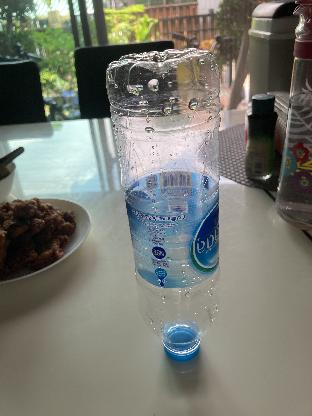Plastic Bottle: (106, 46, 222, 372)
